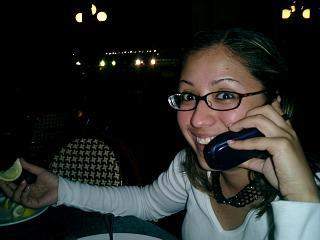person: (1, 31, 320, 240)
